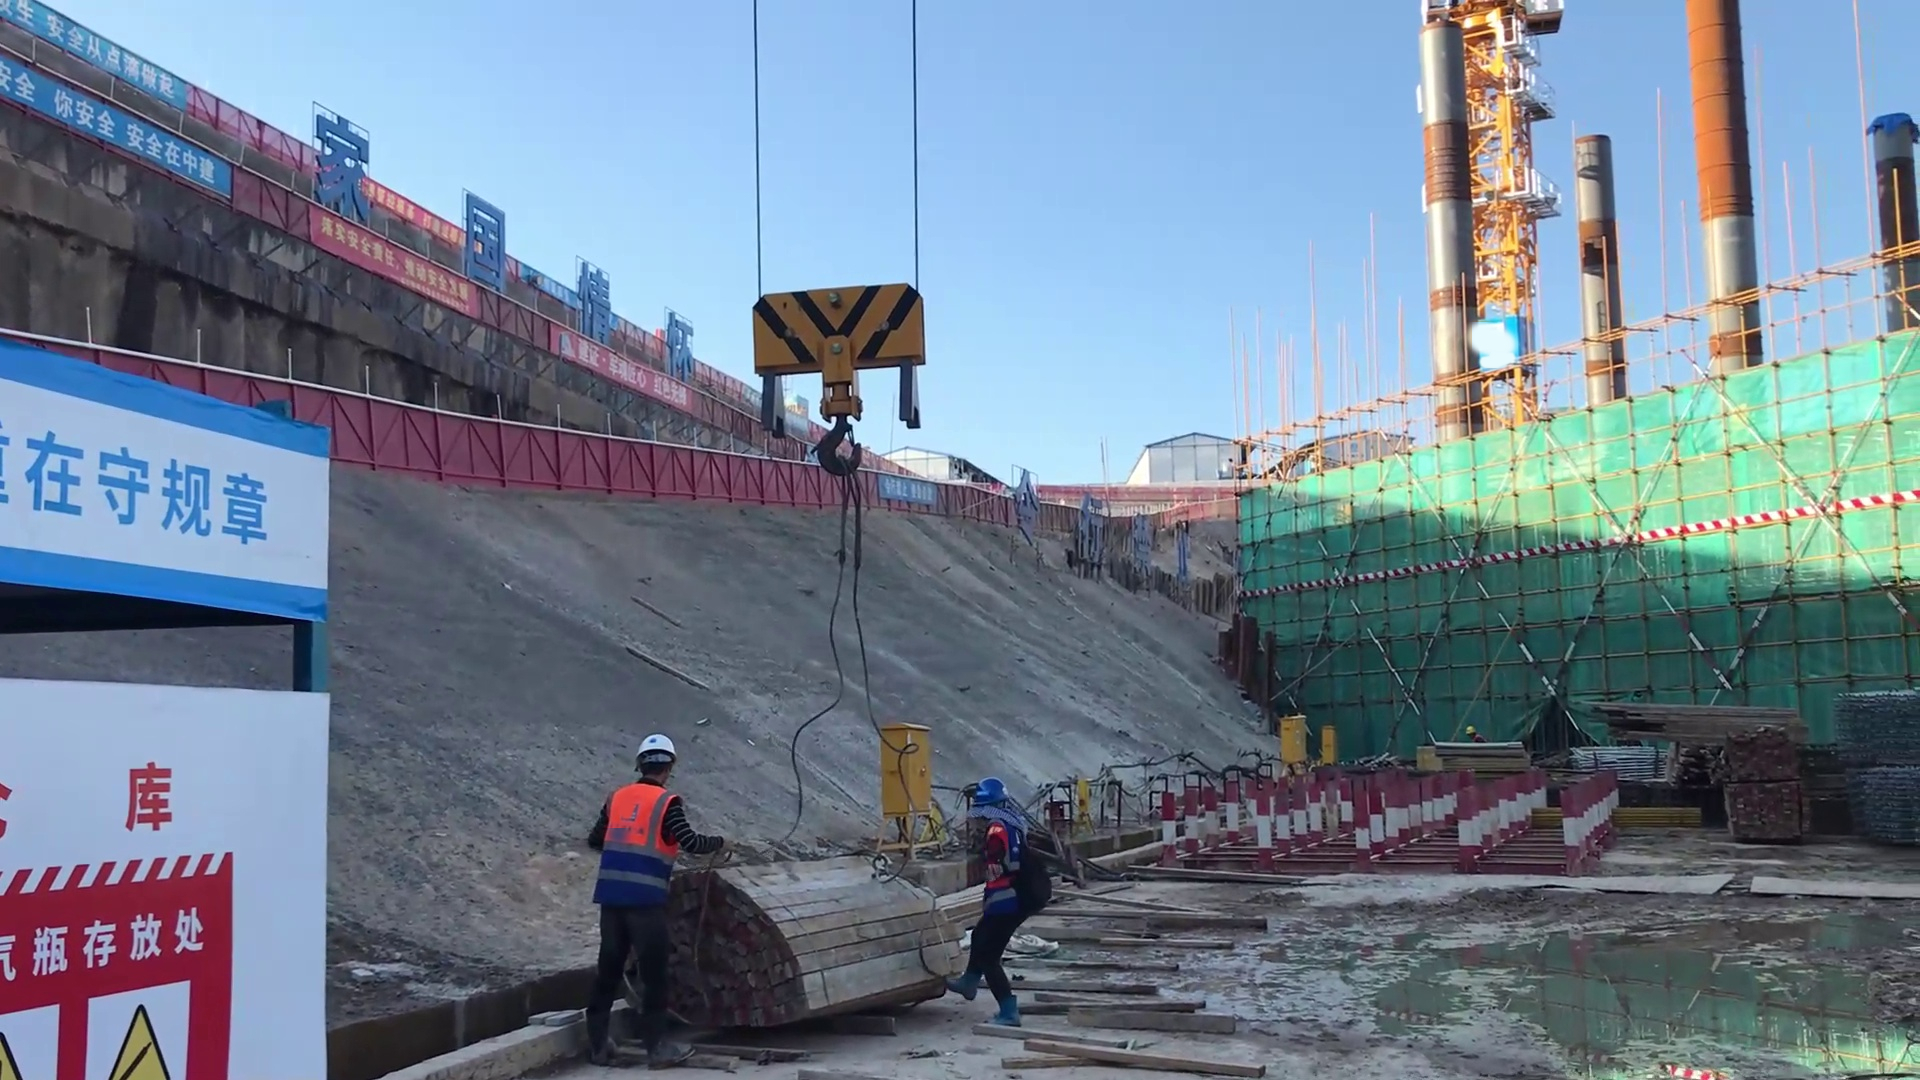ebox: (882, 720, 937, 818), (1282, 715, 1307, 762), (1319, 721, 1339, 765)
fence: (323, 398, 676, 487), (675, 446, 829, 518)
helmet: (630, 724, 677, 787), (966, 777, 1010, 820), (1463, 725, 1475, 736)
hook: (763, 272, 925, 441)
person: (569, 729, 736, 1078), (937, 778, 1043, 1031), (1463, 722, 1487, 746)
scaffold: (1849, 681, 1920, 848)
slogan: (1, 734, 265, 1080), (1, 424, 307, 579), (1, 90, 248, 235), (312, 195, 485, 333), (1, 4, 185, 129)
vest: (600, 790, 682, 866)
wood: (737, 856, 945, 1038), (1055, 898, 1229, 1080), (1586, 697, 1815, 772)
